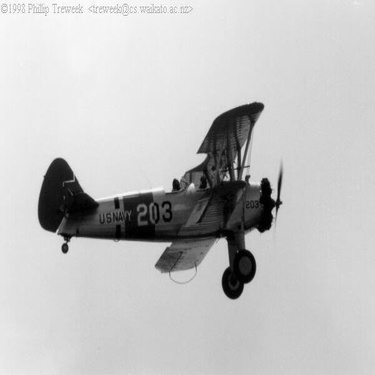airplane: (22, 88, 291, 306)
